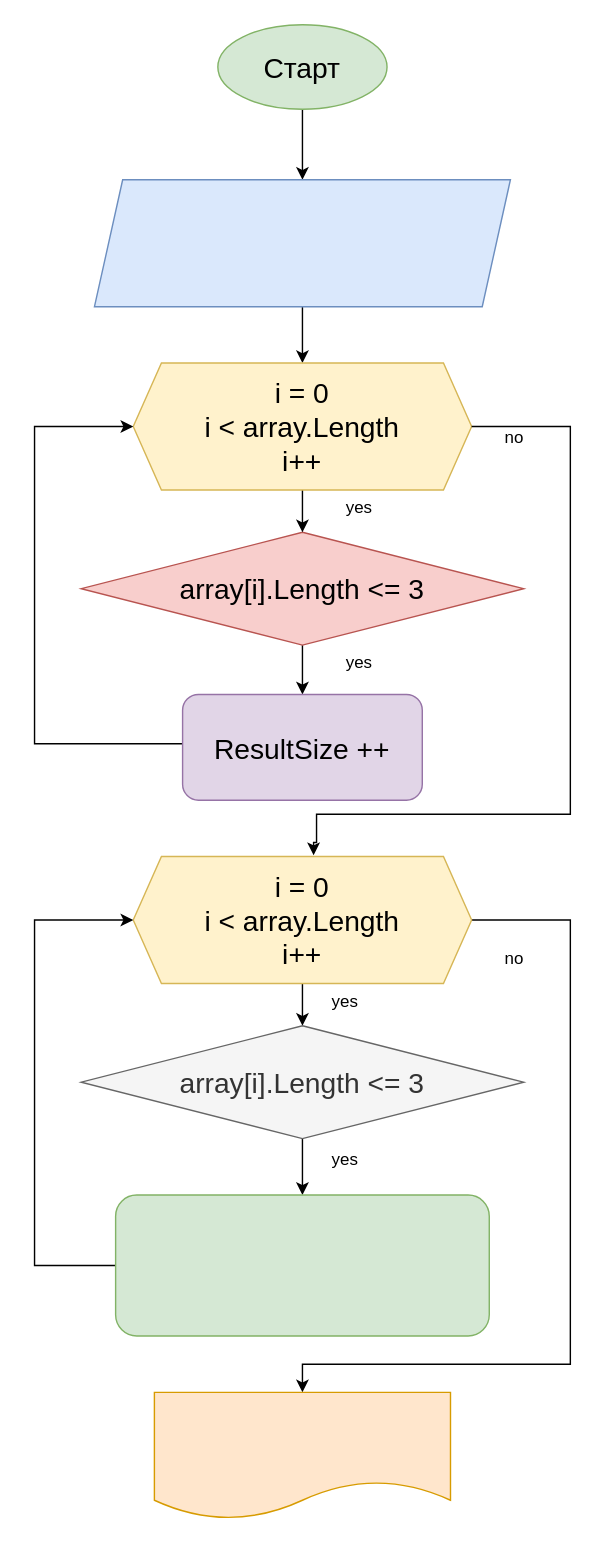
This 606x1544 diagram has some shape labels left out. The shapes that lost their labels are listed below. From the top down, each one's box as (x1, y1, x2, y2) in pixels, then its label:
(93, 178, 510, 307): array = [ Hello, 2, world, :-) ] ResultSize = 0 j = 0
(114, 1194, 489, 1336): ResultArray[j] = array[i] j++
(153, 1391, 450, 1519): ResultArray
